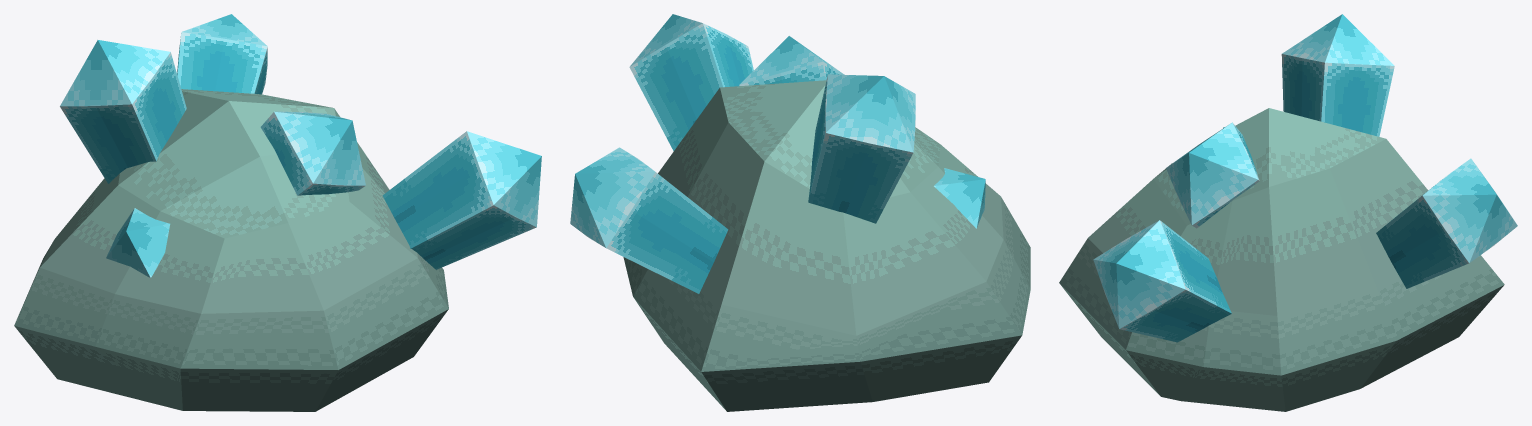
The model's file is Minerai base.glb.
The picture shows the model from 3 angles, left to right: view 1: azimuth 30°, elevation 25°; view 2: azimuth 150°, elevation 25°; view 3: azimuth 270°, elevation 25°; orthographic projection. The views are drawn at different scales.
Visible parts, largest first — view 1: CAILLOUX; view 2: CAILLOUX; view 3: CAILLOUX.
Part boxes in pixels (bbox=[...]): CAILLOUX: bbox=[14, 14, 541, 411]; CAILLOUX: bbox=[570, 14, 1030, 411]; CAILLOUX: bbox=[1059, 14, 1517, 411].
Size of the model in its own units: 2.9 by 1.9 by 2.81.
1 material, 1 textured.
